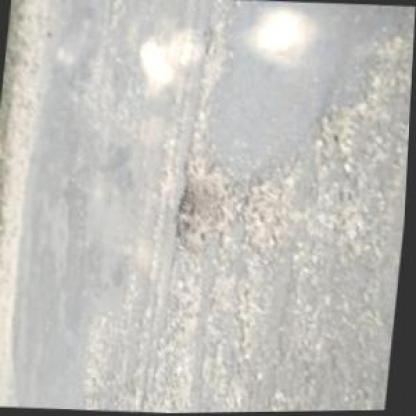pothole: (171, 154, 241, 252)
